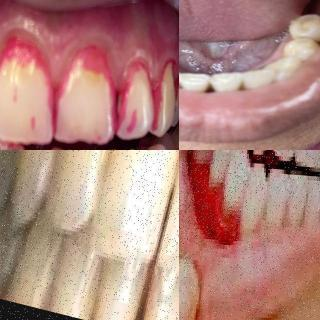Gum Swelling: (189, 163, 238, 245)
